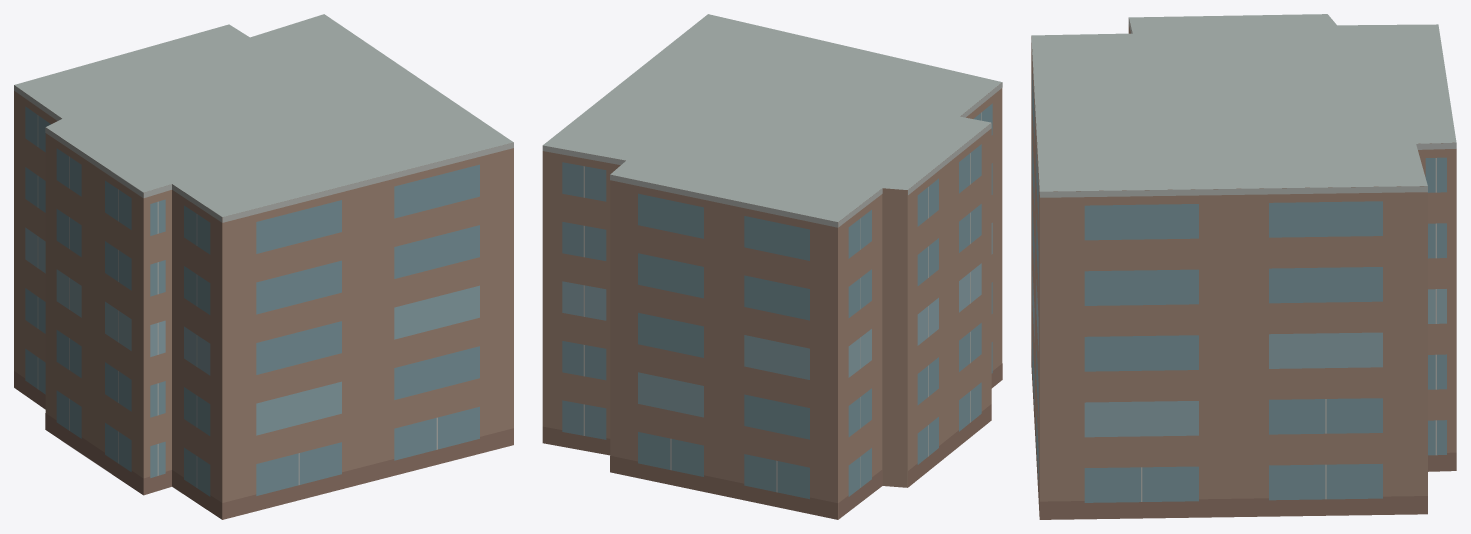
File: survey-upis-32675386.glb
The picture shows the model from 3 angles, left to right: view 1: azimuth 30°, elevation 25°; view 2: azimuth 150°, elevation 25°; view 3: azimuth 270°, elevation 25°; orthographic projection. The views are drawn at different scales.
Parts seen in each view (by area): view 1: survey-upis-32675386.tmp; view 2: survey-upis-32675386.tmp; view 3: survey-upis-32675386.tmp.
Boxes of the visible parts, bbox=[...] form: survey-upis-32675386.tmp: bbox=[14, 14, 513, 519]; survey-upis-32675386.tmp: bbox=[542, 14, 1002, 519]; survey-upis-32675386.tmp: bbox=[1031, 14, 1456, 519].
Size of the model in its own units: 15.12 by 13.02 by 15.29.
